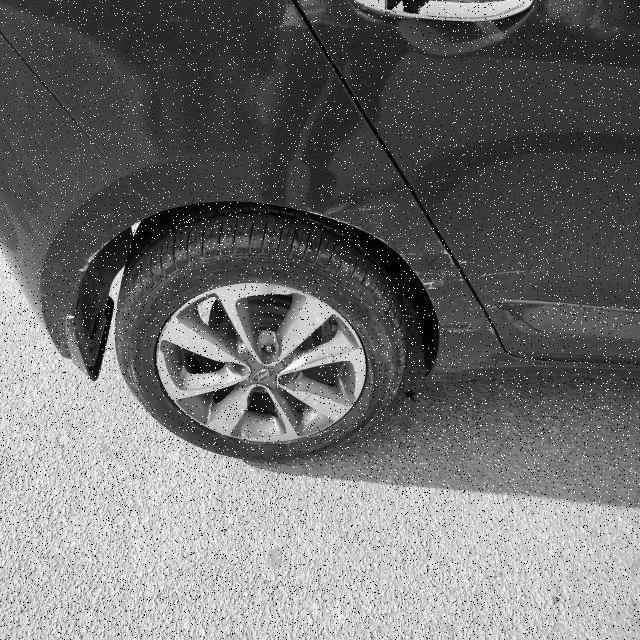quaterpanel-dent: (131, 0, 442, 384)
